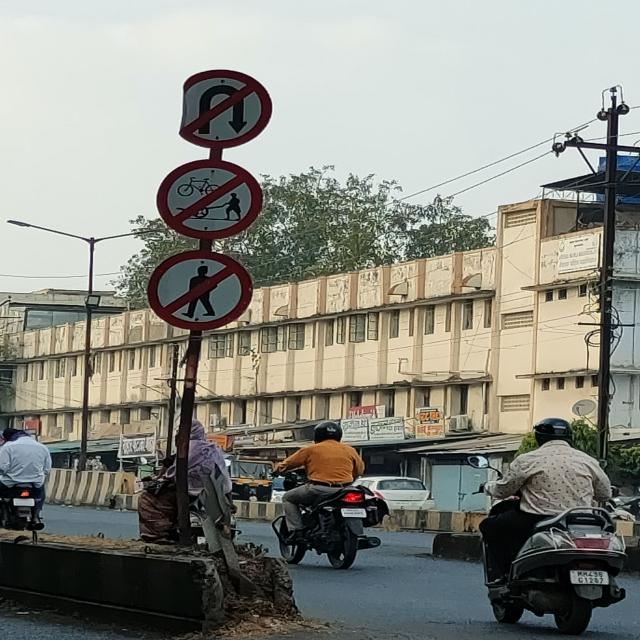CYCLE_PROHIBITED: (154, 157, 266, 241)
